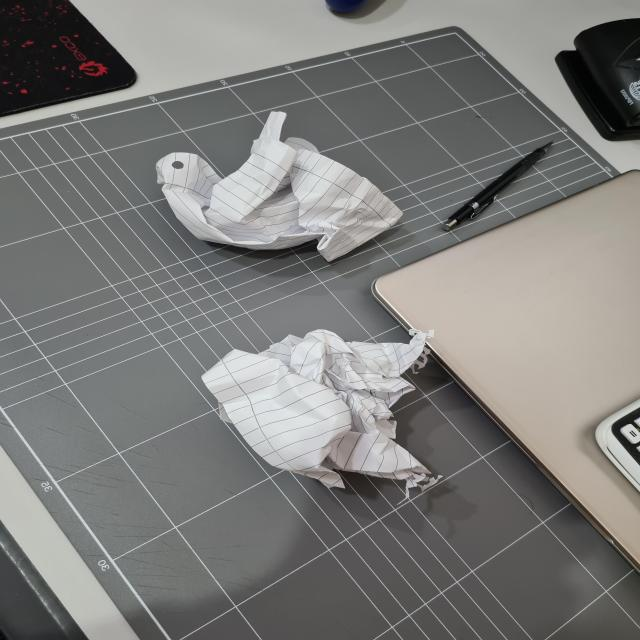paper: (206, 329, 434, 491), (148, 114, 396, 260)
